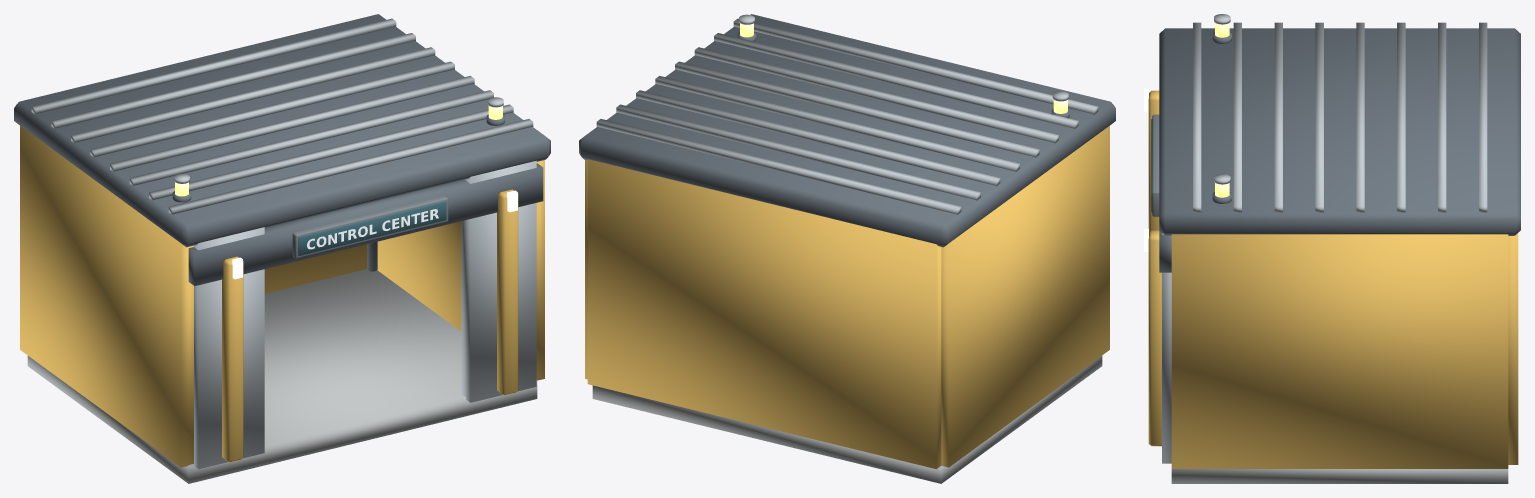
Rendered from control_center_ultra.glb.
3 views of the same model, side by side, from view 1: azimuth 30°, elevation 25°; view 2: azimuth 150°, elevation 25°; view 3: azimuth 270°, elevation 25° (orthographic). The views are drawn at different scales.
Parts seen in each view (by area): view 1: Wall_orange_legacy_1, Roof_dark_legacy_2, Foundation_concrete_legacy_0, RoofRib_steel_legacy_12, FrontFrame_steel_legacy_3, Header_dark_legacy_4, PortalTrim_orange_legacy_15, SignPlate_glass, ScreenMount_frame, TypeLabel_white; view 2: Wall_orange_legacy_1, Roof_dark_legacy_2, RoofRib_steel_legacy_12, Foundation_concrete_legacy_0; view 3: Wall_orange_legacy_1, Roof_dark_legacy_2, RoofRib_steel_legacy_12, Foundation_concrete_legacy_0, PortalTrim_orange_legacy_15, FrontFrame_steel_legacy_3, ScreenMount_frame, Header_dark_legacy_4, StatusLight_warn_legacy_10.
Boxes of the visible parts, <box> form: Wall_orange_legacy_1: <box>20,125,544,467</box>; Roof_dark_legacy_2: <box>14,14,550,247</box>; Foundation_concrete_legacy_0: <box>27,269,537,483</box>; RoofRib_steel_legacy_12: <box>31,18,533,214</box>; FrontFrame_steel_legacy_3: <box>194,160,536,469</box>; Header_dark_legacy_4: <box>188,163,543,285</box>; PortalTrim_orange_legacy_15: <box>222,189,518,462</box>; SignPlate_glass: <box>298,201,446,255</box>; ScreenMount_frame: <box>292,196,448,258</box>; TypeLabel_white: <box>307,209,438,249</box>; Wall_orange_legacy_1: <box>585,125,1109,469</box>; Roof_dark_legacy_2: <box>579,14,1115,247</box>; RoofRib_steel_legacy_12: <box>596,18,1098,214</box>; Foundation_concrete_legacy_0: <box>592,356,1102,483</box>; Wall_orange_legacy_1: <box>1171,233,1518,468</box>; Roof_dark_legacy_2: <box>1159,28,1520,235</box>; RoofRib_steel_legacy_12: <box>1193,22,1487,212</box>; Foundation_concrete_legacy_0: <box>1171,469,1508,483</box>; PortalTrim_orange_legacy_15: <box>1148,90,1161,446</box>; FrontFrame_steel_legacy_3: <box>1162,233,1171,463</box>; ScreenMount_frame: <box>1152,114,1159,216</box>; Header_dark_legacy_4: <box>1159,230,1171,272</box>; StatusLight_warn_legacy_10: <box>1215,23,1229,197</box>.
Bounding box in the file's own units: 5.3 × 3.9 × 4.48.
